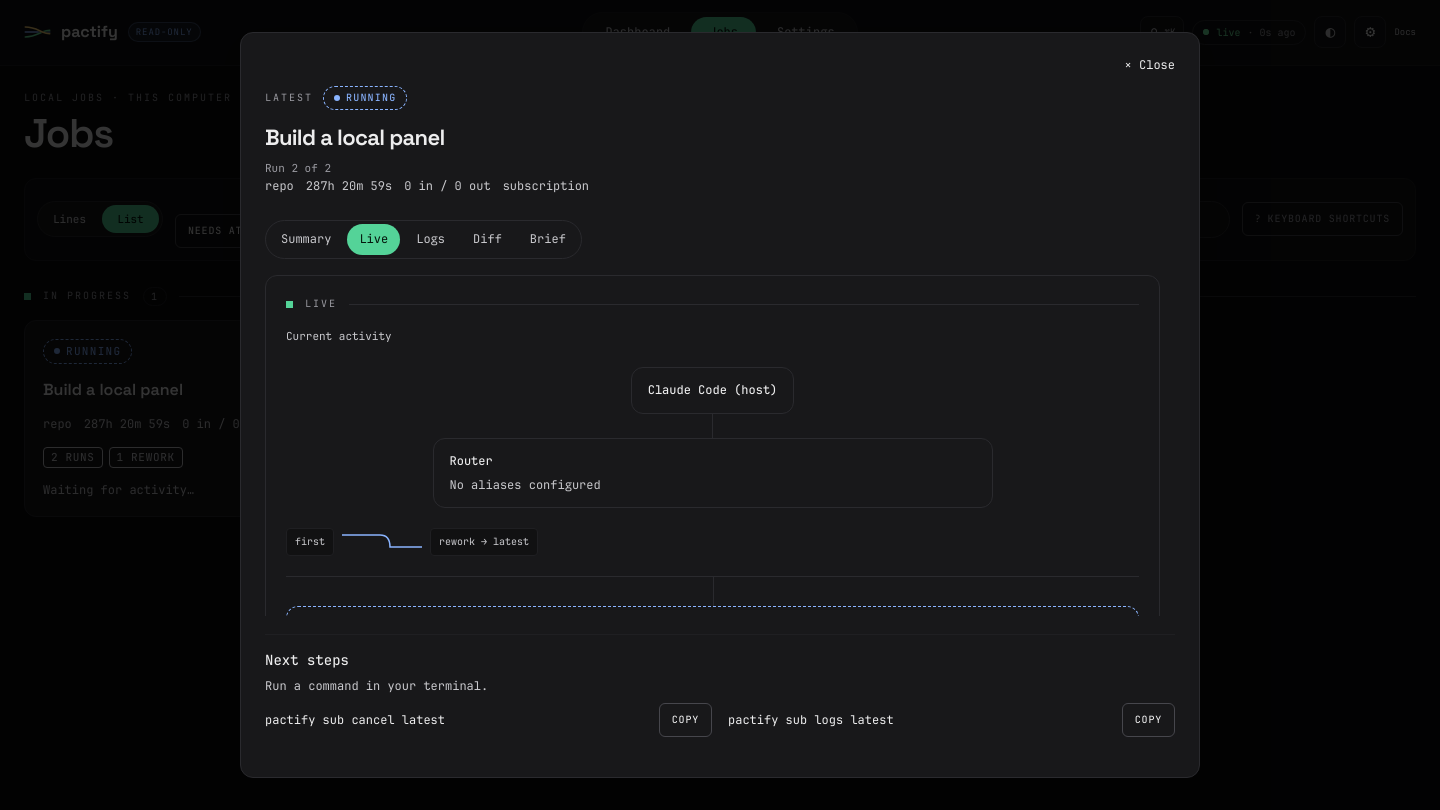
Test: uses the task title, run number, Live default and heading focus in details
The image size is (1440, 810).
Expected: the text "Run 2 of 2" is shown, [265,161,331,175]
Expected: the heading "Next steps" is shown, [265,651,349,669]
Click the tab "Summary": (306, 240) [269,224,343,255]
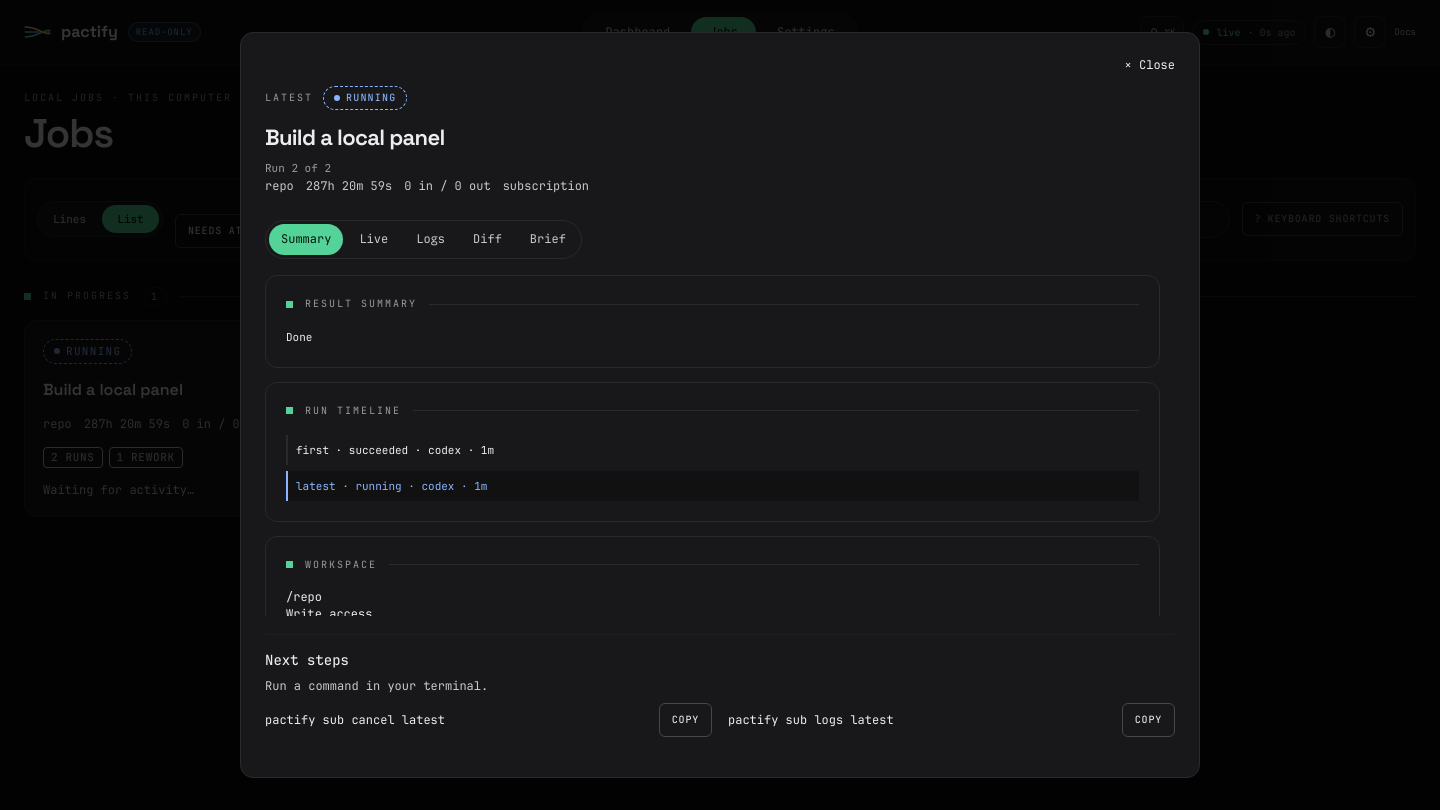
Now the text "Write access" is shown, box [286,606,372,616]
